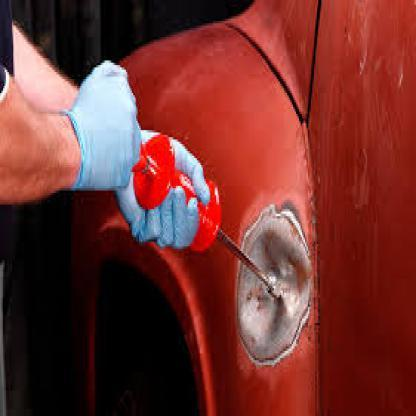dent: (231, 196, 312, 370)
